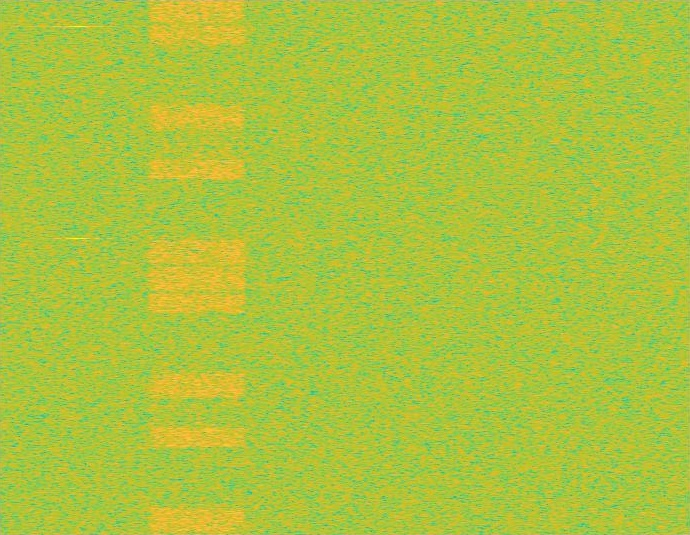LTE: (145, 0, 249, 534)
Radar: (71, 0, 85, 534)
